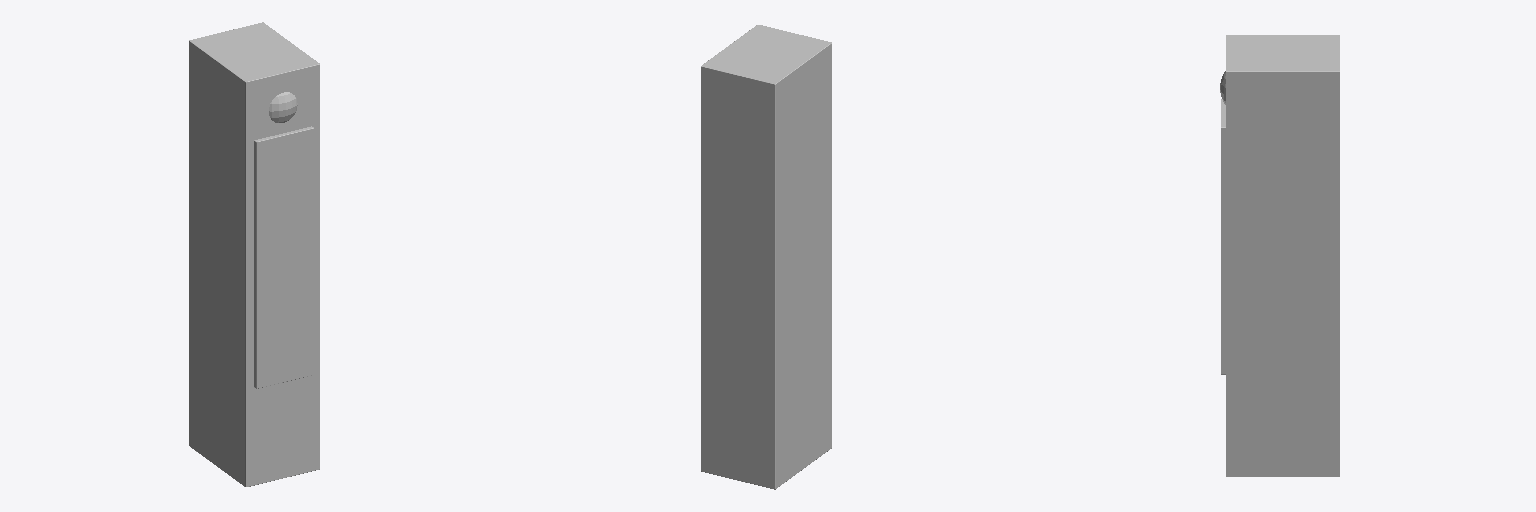
The model's file is Stereo Speakers.obj.
3 renders of one model, left to right at view 1: azimuth 30°, elevation 25°; view 2: azimuth 150°, elevation 25°; view 3: azimuth 270°, elevation 25°, orthographic.
Size of the model in its own units: 5.05 by 26.14 by 7.04.